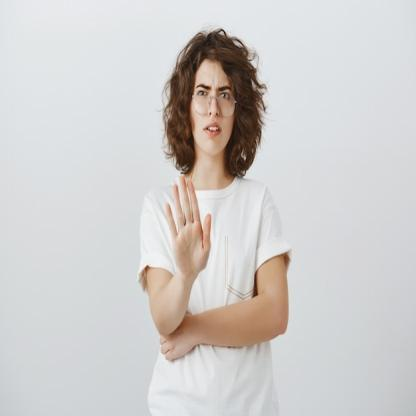stop: (164, 172, 216, 289)
